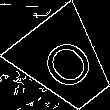O_SE: (31, 30, 99, 96)
